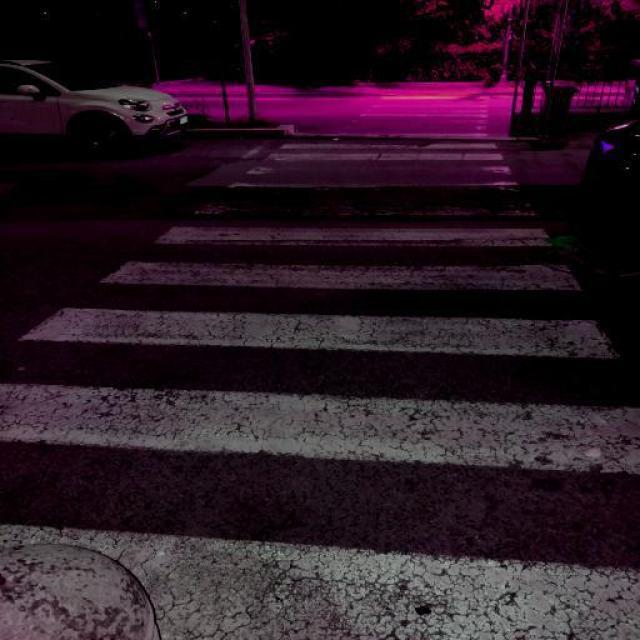crosswalk: (5, 139, 640, 640)
